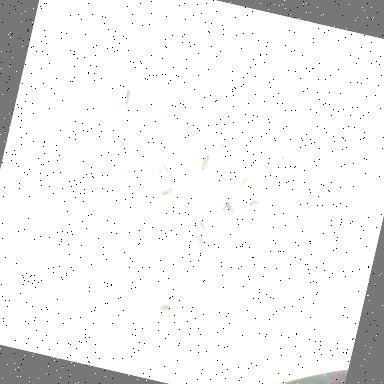pbw: (195, 153, 212, 173), (120, 84, 132, 110), (192, 232, 206, 249), (236, 176, 249, 192), (160, 186, 174, 199), (224, 202, 237, 215), (156, 306, 172, 316), (158, 163, 170, 174), (200, 239, 207, 255), (198, 222, 208, 232), (249, 199, 260, 208)
